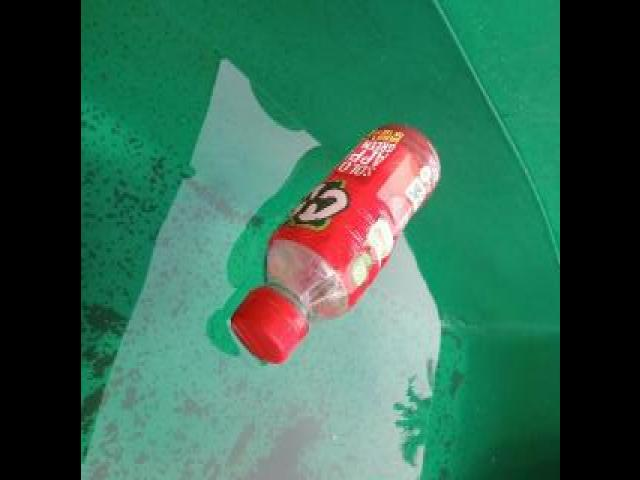Bottle: (224, 124, 444, 368)
